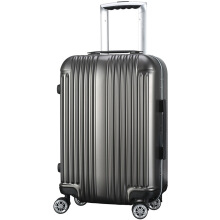luggage: (52, 0, 173, 220)
